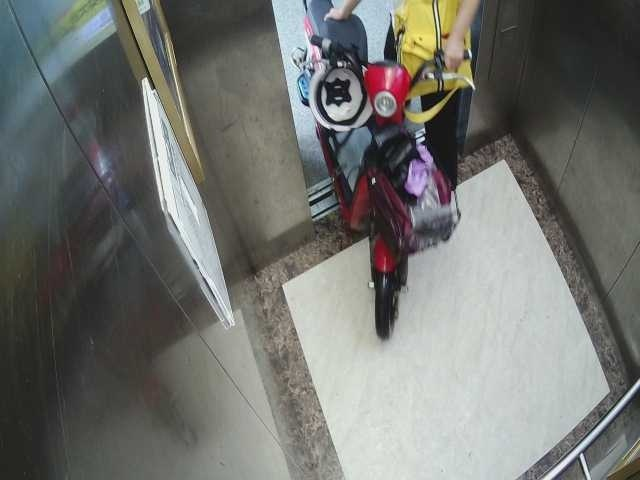emotor: (290, 4, 432, 348)
